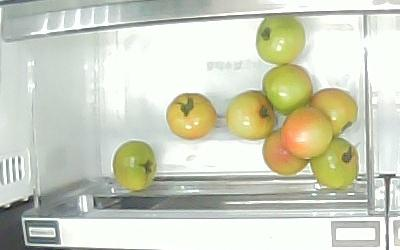tomato: (282, 107, 333, 159), (309, 139, 359, 190), (263, 64, 313, 114), (226, 91, 276, 140), (257, 15, 305, 65), (310, 88, 358, 138), (167, 93, 216, 141), (261, 129, 311, 176), (112, 141, 157, 191)
